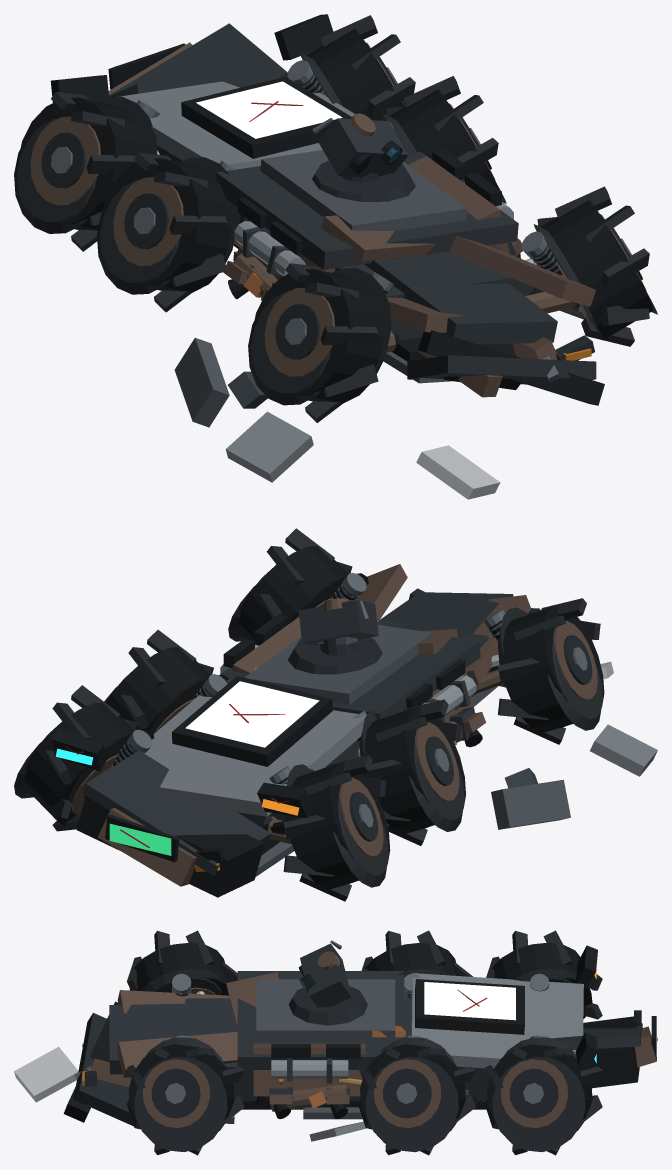
File: r47xs_recon_rover_d3_lod0.meshopt.glb
3 views of the same model, one above another, from view 1: azimuth 30°, elevation 25°; view 2: azimuth 150°, elevation 25°; view 3: azimuth 270°, elevation 25° (orthographic). The views are drawn at different scales.
Parts seen in each view (by area): view 1: CHASSIS_ARMOR_BODY, ZONE_FRONT_BUMPER, WHEEL_FL, WHEEL_ML, WHEEL_RL, WHEEL_FR, ZONE_REAR_PANEL, WHEEL_RR, WHEEL_MR, ZONE_FLANK_NEG_X, ZONE_FLANK_POS_X, DISPLAY_FDAI_TELEMETRY_PANEL (+8 smaller); view 2: CHASSIS_ARMOR_BODY, ZONE_REAR_PANEL, WHEEL_FL, WHEEL_RL, WHEEL_ML, WHEEL_RR, ZONE_FRONT_BUMPER, WHEEL_FR, WHEEL_MR, DISPLAY_FDAI_TELEMETRY_PANEL, ZONE_FLANK_POS_X, ZONE_FLANK_NEG_X (+7 smaller); view 3: CHASSIS_ARMOR_BODY, ZONE_FRONT_BUMPER, WHEEL_FR, WHEEL_MR, WHEEL_RR, ZONE_FLANK_POS_X, WHEEL_FL, ZONE_REAR_PANEL, WHEEL_RL, DISPLAY_FDAI_TELEMETRY_PANEL, WHEEL_ML, SENSOR_MAST_HEAD (+6 smaller).
Boxes of the visible parts, x1,y1,x2,y2 form: CHASSIS_ARMOR_BODY: (117,77,533,361); ZONE_FRONT_BUMPER: (364,236,604,405); WHEEL_FL: (248,263,391,422); WHEEL_ML: (97,152,240,312); WHEEL_RL: (14,92,157,251); WHEEL_FR: (533,186,657,346); ZONE_REAR_PANEL: (108,23,288,97); WHEEL_RR: (299,15,415,120); WHEEL_MR: (382,76,506,203); ZONE_FLANK_NEG_X: (50,75,335,297); ZONE_FLANK_POS_X: (274,14,513,253); DISPLAY_FDAI_TELEMETRY_PANEL: (196,81,342,138); CHASSIS_ARMOR_BODY: (145,620,491,854); ZONE_REAR_PANEL: (76,750,294,897); WHEEL_FL: (498,598,604,744); WHEEL_RL: (283,755,390,901); WHEEL_ML: (359,699,465,845); WHEEL_RR: (14,685,154,831); ZONE_FRONT_BUMPER: (356,564,540,706); WHEEL_FR: (228,528,368,641); WHEEL_MR: (104,630,229,733); DISPLAY_FDAI_TELEMETRY_PANEL: (185,681,319,747); ZONE_FLANK_POS_X: (52,615,301,771); ZONE_FLANK_NEG_X: (257,659,476,818); CHASSIS_ARMOR_BODY: (185,971,583,1119); ZONE_FRONT_BUMPER: (63,990,237,1126); WHEEL_FR: (127,1037,244,1155); WHEEL_MR: (358,1037,475,1155); WHEEL_RR: (485,1037,602,1155); ZONE_FLANK_POS_X: (253,1032,597,1111); WHEEL_FL: (127,930,237,995); ZONE_REAR_PANEL: (482,1010,656,1101); WHEEL_RL: (486,930,602,1019); DISPLAY_FDAI_TELEMETRY_PANEL: (424,982,515,1020); WHEEL_ML: (361,930,473,977); SENSOR_MAST_HEAD: (298,940,351,1007).
Bounding box in the file's own units: 3.06 × 1.59 × 5.18.
